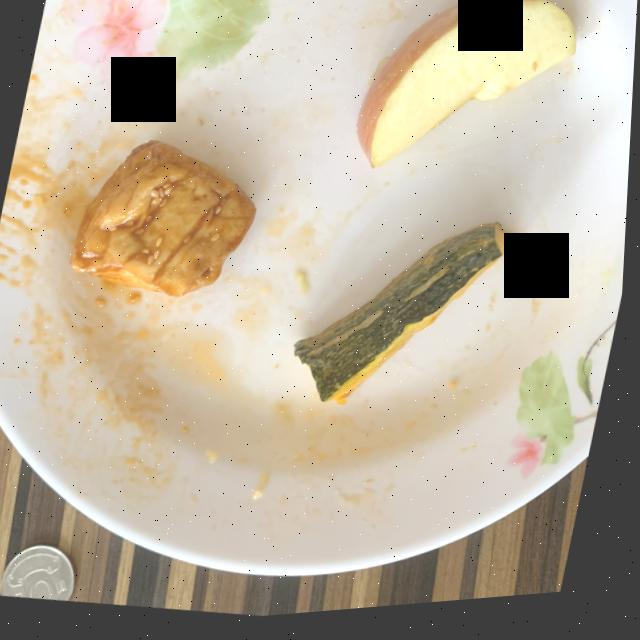apple -sliced-: (359, 0, 577, 173)
coin: (8, 545, 82, 603)
creamy tofu: (74, 143, 259, 300)
pumpkin: (298, 230, 520, 407)
